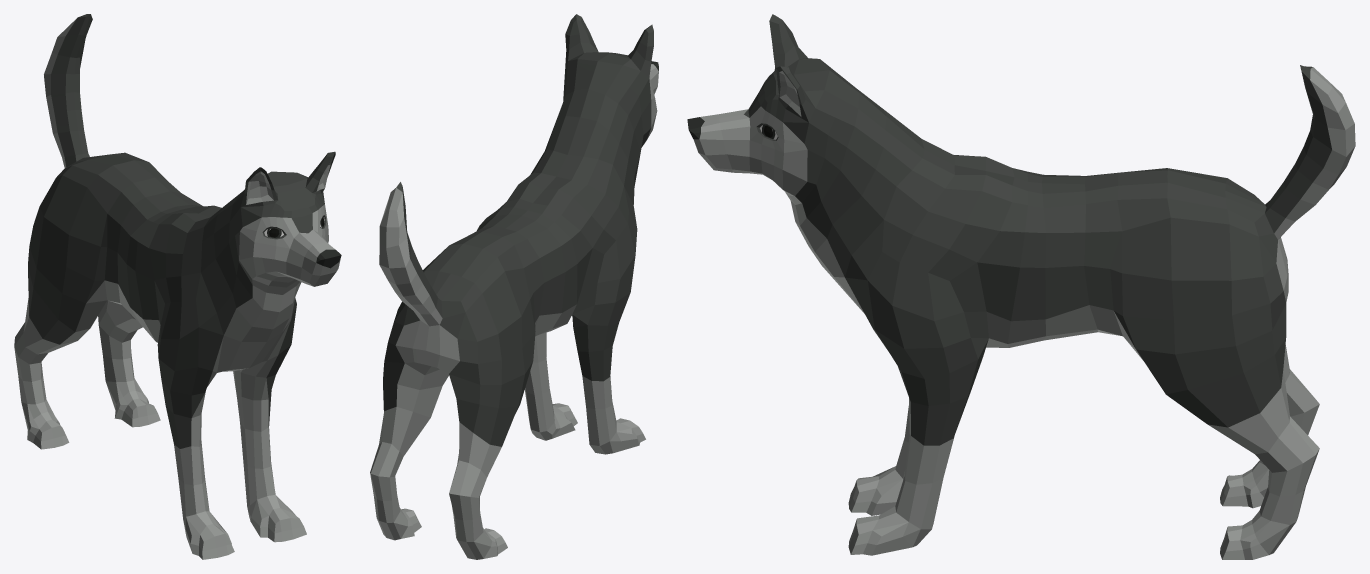
Rendered from Husky.glb.
3 views of the same model, side by side, from view 1: azimuth 30°, elevation 25°; view 2: azimuth 150°, elevation 25°; view 3: azimuth 270°, elevation 25° (orthographic). The views are drawn at different scales.
Visible parts, largest first — view 1: Cube; view 2: Cube; view 3: Cube.
Boxes of the visible parts, x1=… form: Cube: x1=14, y1=14, x2=341, y2=559; Cube: x1=370, y1=14, x2=658, y2=559; Cube: x1=687, y1=14, x2=1355, y2=559.
Size of the model in its own units: 0.9899 by 3.19 by 3.89.
1 material, 1 textured.
